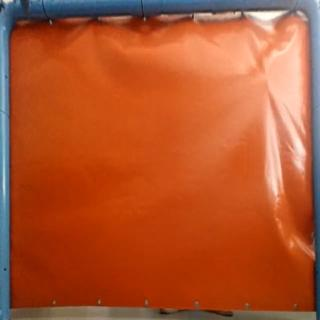Hit-hRxx: (261, 75, 273, 88)
